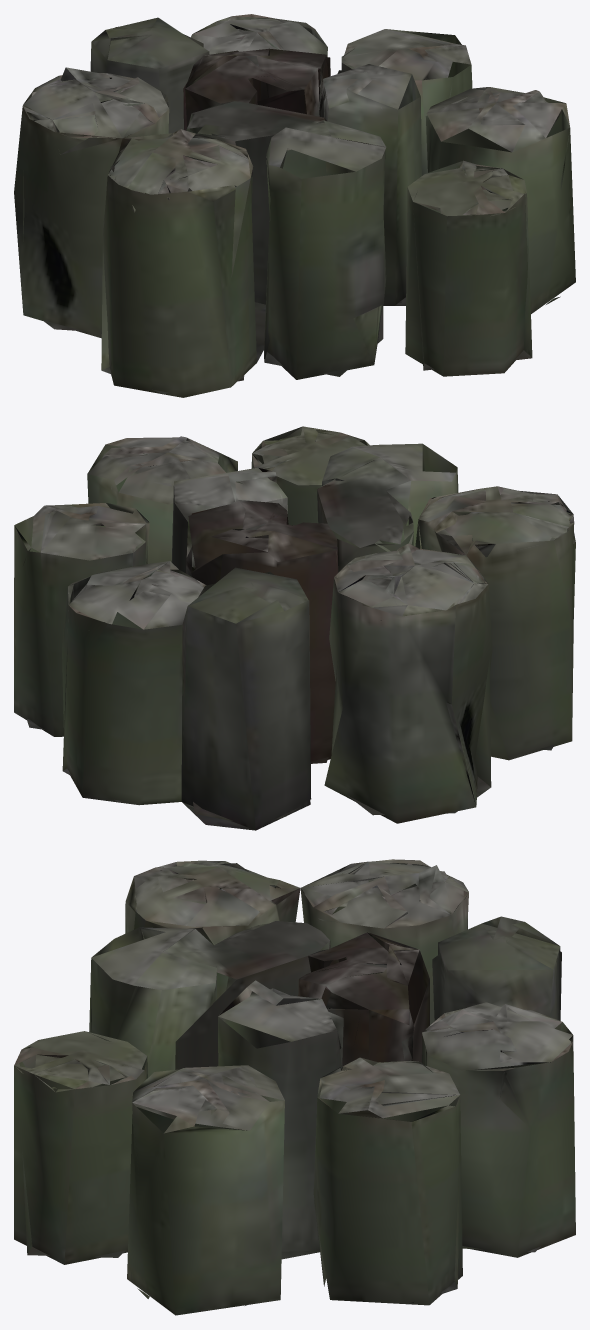
The model's file is barrels_1454587752_lod0.glb.
The picture shows the model from 3 angles, top to bottom: view 1: azimuth 30°, elevation 25°; view 2: azimuth 150°, elevation 25°; view 3: azimuth 270°, elevation 25°; orthographic projection. The views are drawn at different scales.
Size of the model in its own units: 1.61 by 0.7618 by 1.59.
Materials: 1 (1 with a texture image).
